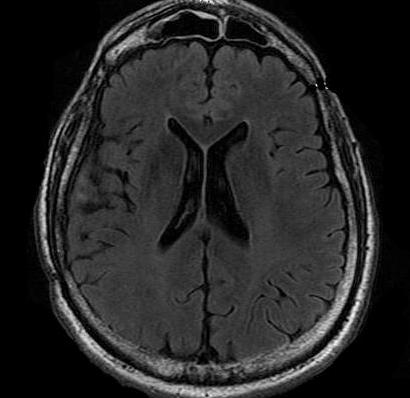Normal_Brain: (12, 1, 392, 398)
